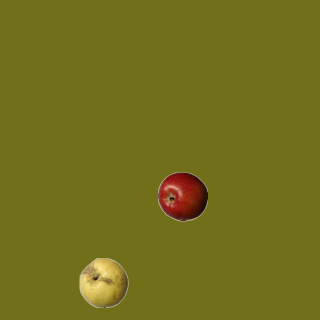Apple Braeburn: (157, 171, 207, 221)
Apple Golden 1: (78, 257, 128, 307)
